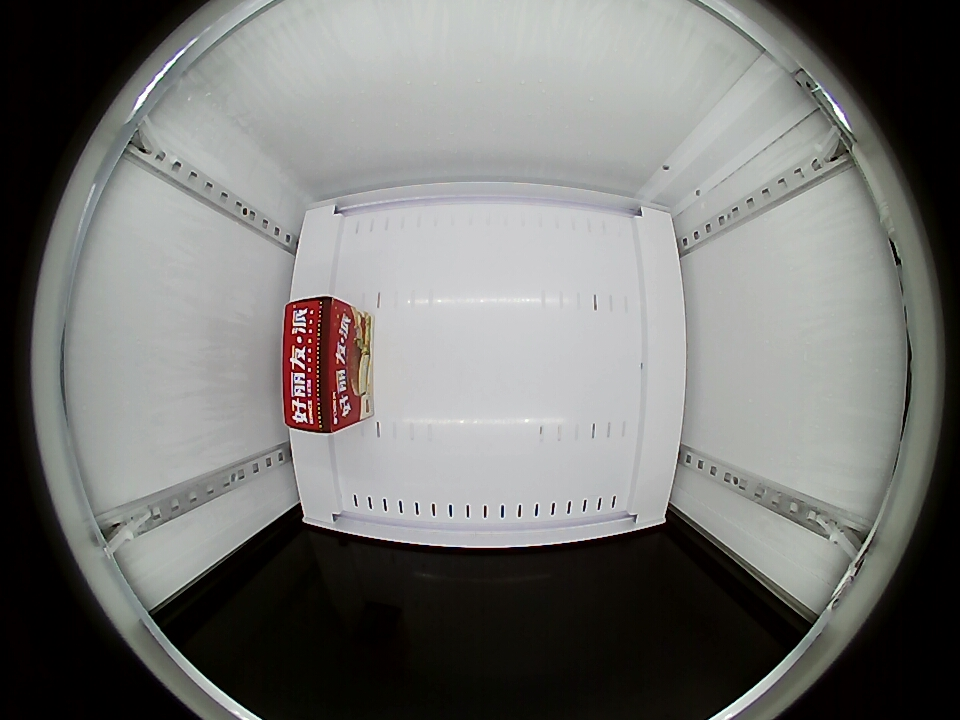haoliyou: (283, 296, 363, 434)
